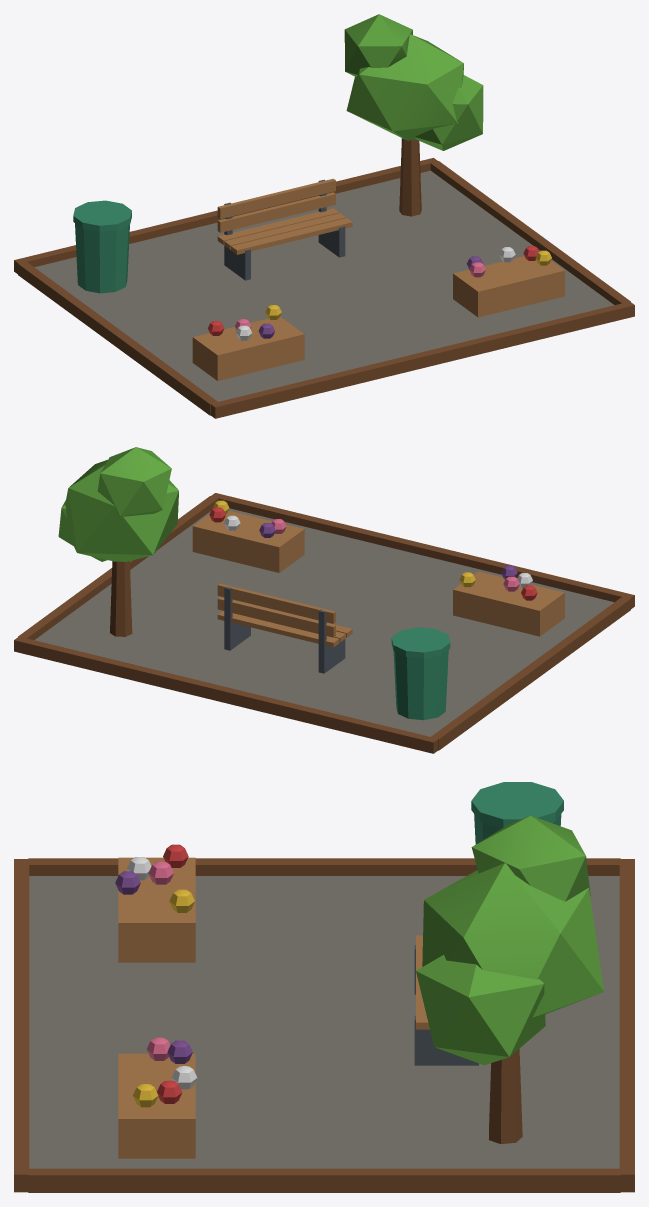
The model's file is dump_pile.gltf.
3 views of the same model, one above another, from view 1: azimuth 30°, elevation 25°; view 2: azimuth 150°, elevation 25°; view 3: azimuth 270°, elevation 25° (orthographic). The views are drawn at different scales.
Parts seen in each view (by area): view 1: dump_pile; view 2: dump_pile; view 3: dump_pile.
Boxes of the visible parts, bbox=[...] form: dump_pile: bbox=[14, 14, 634, 418]; dump_pile: bbox=[14, 447, 634, 753]; dump_pile: bbox=[14, 782, 634, 1192].
Size of the model in its own units: 5.82 by 2.66 by 4.82.
